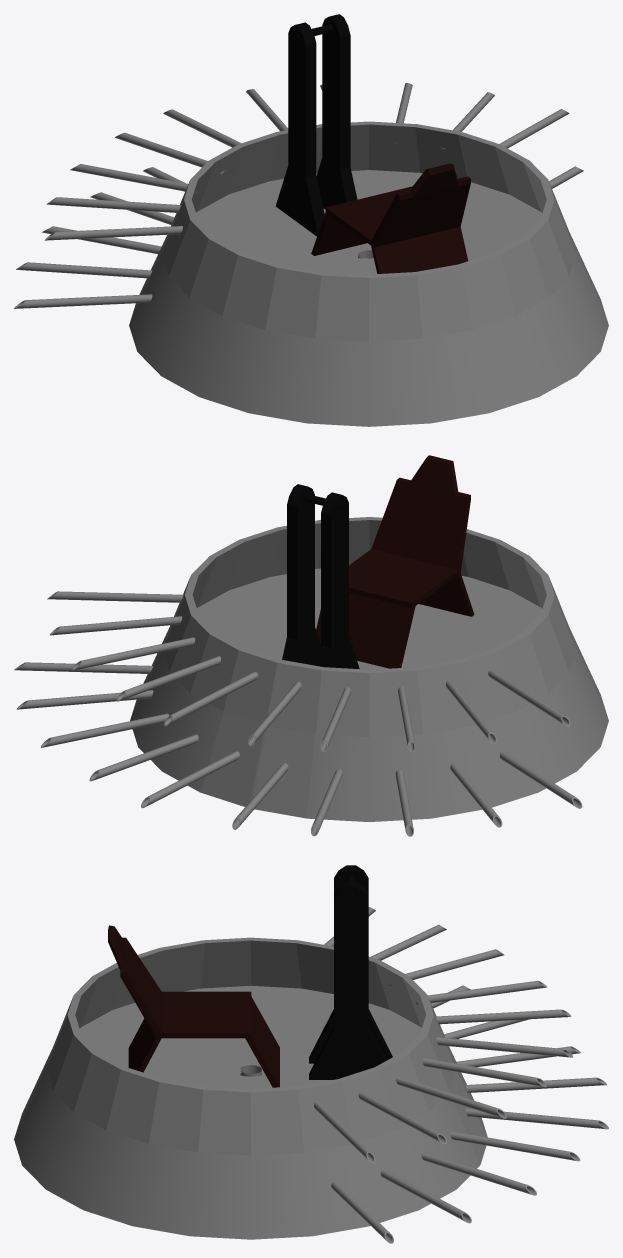
The model's file is Tower_3 lvl 1 cover.2.FBX.
The picture shows the model from 3 angles, top to bottom: view 1: azimuth 30°, elevation 25°; view 2: azimuth 150°, elevation 25°; view 3: azimuth 270°, elevation 25°; orthographic projection.
Parts seen in each view (by area): view 1: Box007; view 2: Box007; view 3: Box007.
Part boxes in pixels (x1,y1,x2,y2): Box007: (14, 14, 608, 426); Box007: (14, 455, 608, 836); Box007: (14, 865, 608, 1243).
Bounding box in the file's own units: 256 × 234 × 115.
